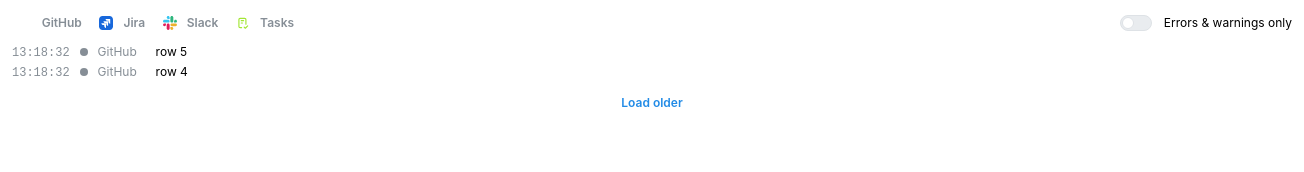
Test: LogTab › drops a stale load-older response after a filter change
Click the button "Load older" at {"x": 652, "y": 103}, box [613,92,691,114]
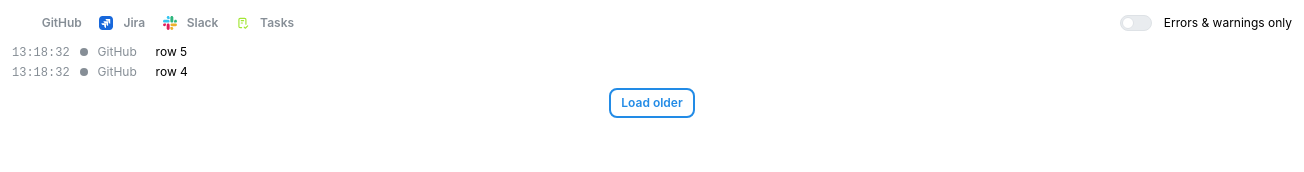
Click the switch labelled "Errors & warnings only" at {"x": 1206, "y": 23}, box [1120,15,1292,31]
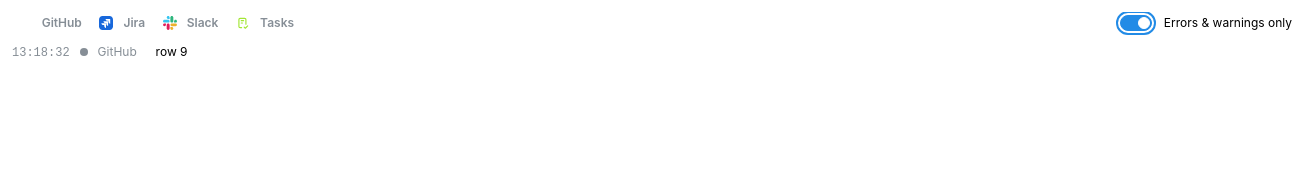
Expected: the text "row 9" is shown, [156,44,188,61]
Expected: the button "Load older" is gone
